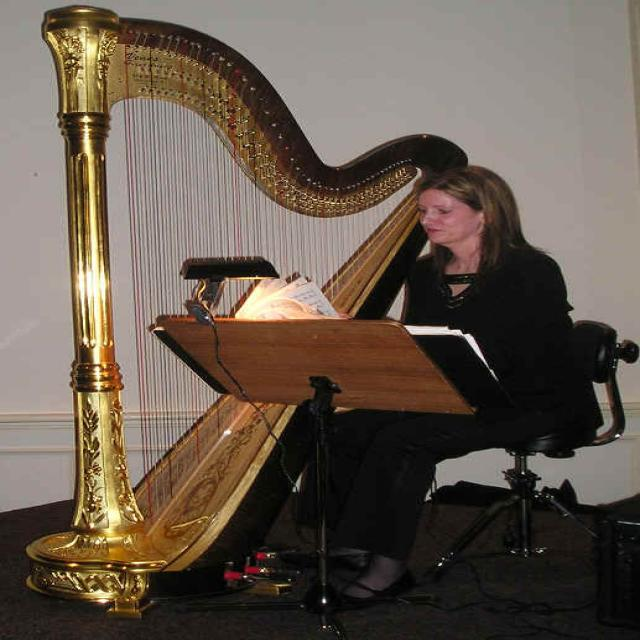harp: (19, 0, 472, 640)
